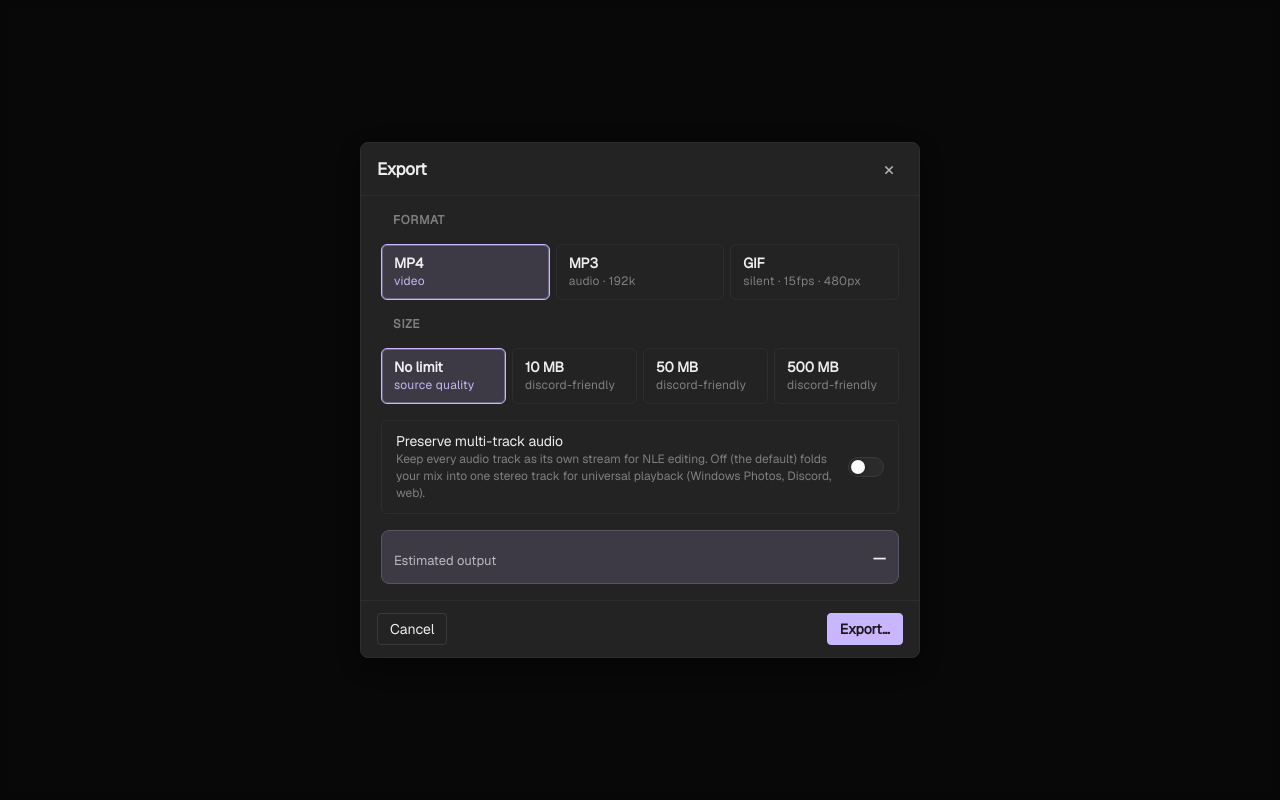
ExportModal › changes the confirm label when MP3 format is selected
Step 1. Click the radio button labelled "MP3 audio · 192k" → (640, 272), box [556,244,724,300]
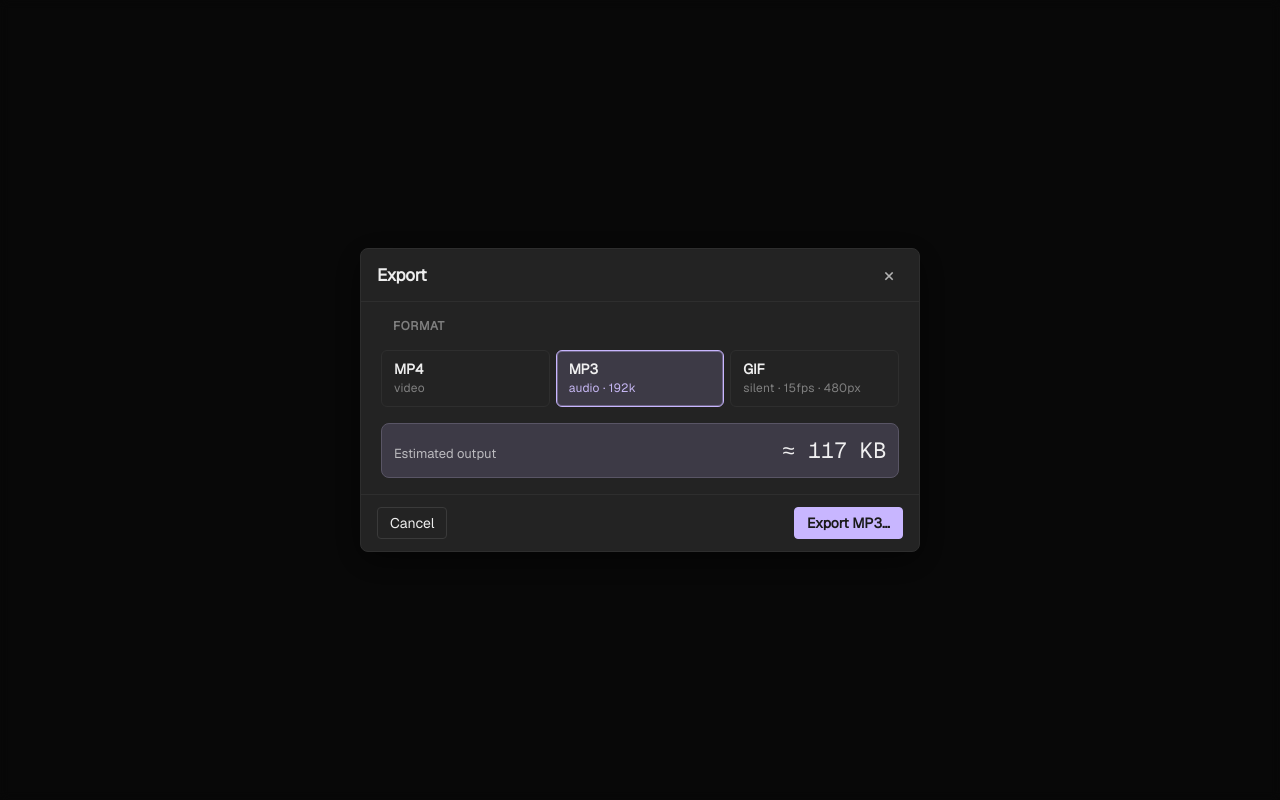
Expected: the button "Export MP3…" is shown, [794,506,903,538]
